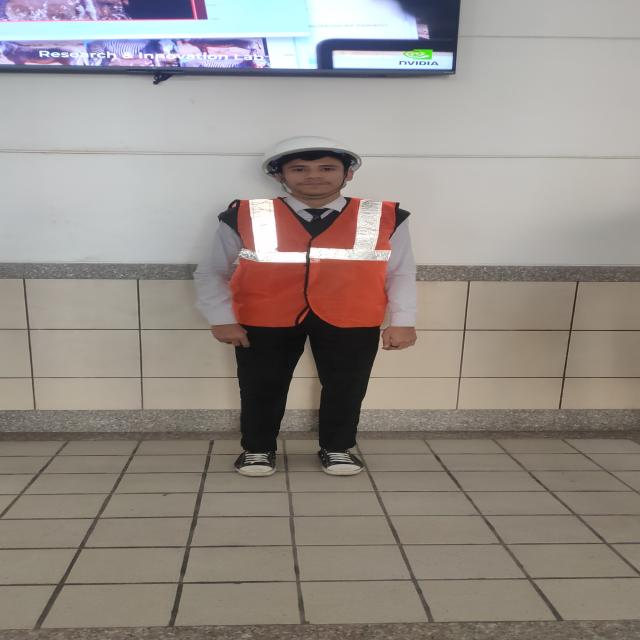safe: (195, 136, 415, 475)
